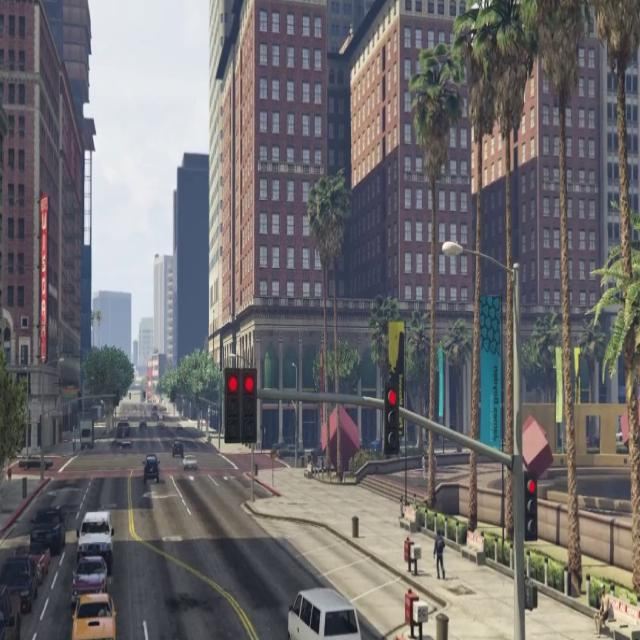Red-Signal: (219, 353, 262, 461), (515, 461, 548, 552), (379, 371, 408, 457)
